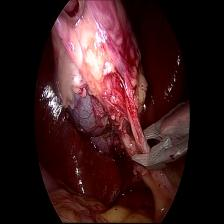Clipper: (131, 115, 184, 173)
Grasper: (58, 0, 86, 29)
